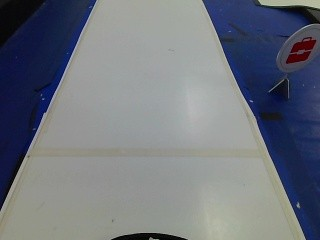company: (278, 23, 319, 74)
